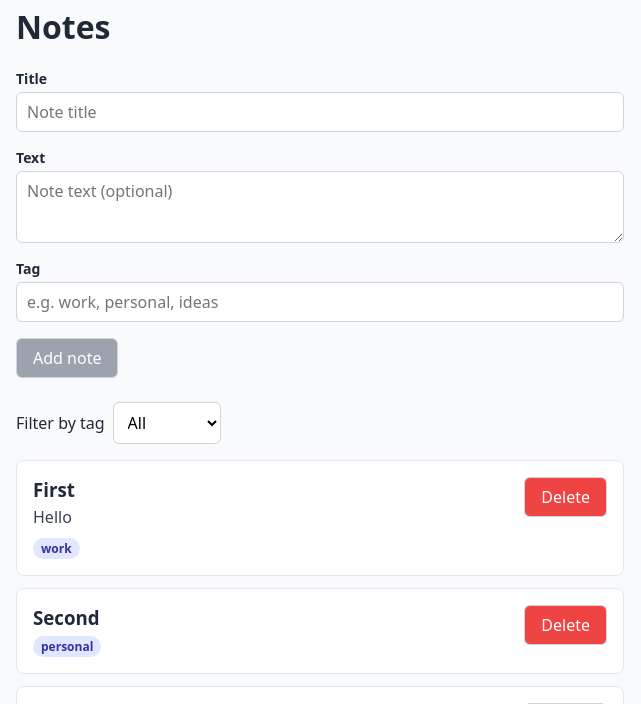
Test: Notes with tags UI › re-fetches filtered notes when a tag is selected
Expected: the heading "Second" is shown, [33,605,101,630]
Select "work" in the dropdown labelled "Filter by tag". click: (167,423)
box: [113,402,221,444]
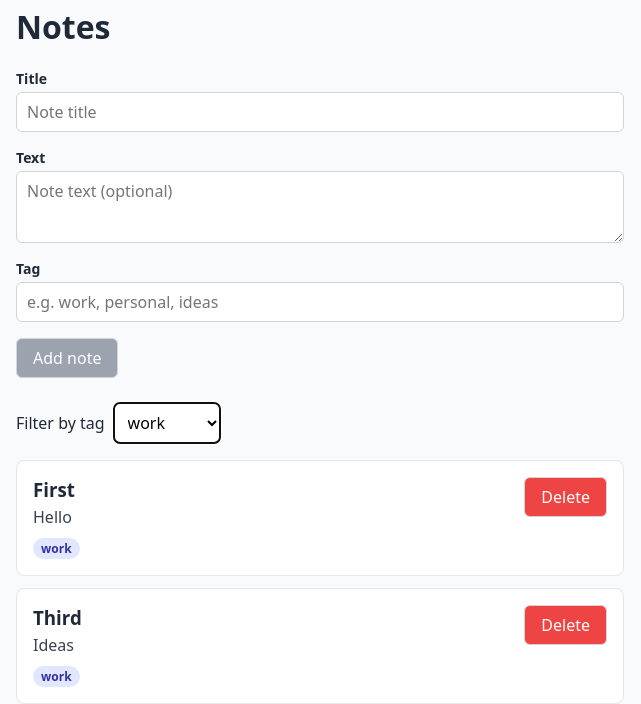
Expected: the heading "First" is shown, [33,477,80,502]
Expected: the heading "Second" is gone
